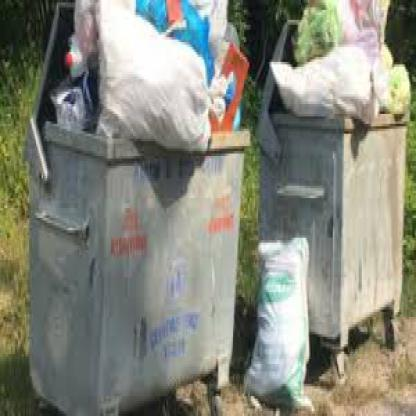Garbage: (69, 0, 247, 134), (290, 0, 410, 104), (252, 238, 310, 407)
